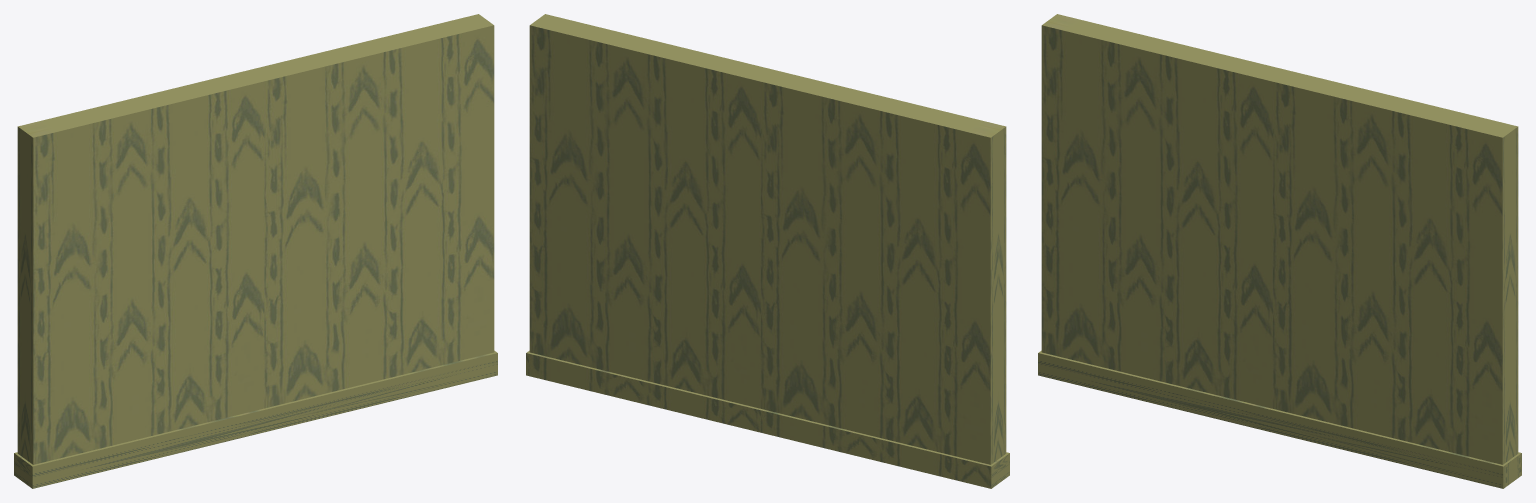
File: Wall.fbx
The picture shows the model from 3 angles, left to right: view 1: azimuth 30°, elevation 25°; view 2: azimuth 150°, elevation 25°; view 3: azimuth 330°, elevation 25°; orthographic projection.
Parts seen in each view (by area): view 1: Wall; view 2: Wall; view 3: Wall.
Part boxes in pixels (x1,y1,x2,y2): Wall: (14,14,497,488); Wall: (526,14,1009,488); Wall: (1038,14,1521,488).
Size of the model in its own units: 1393 by 1000 by 95.78.
